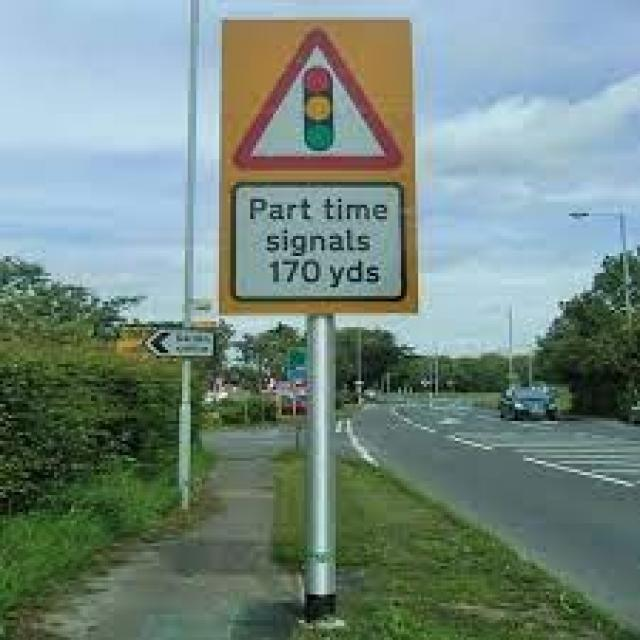light_traffic: (229, 25, 405, 174)
